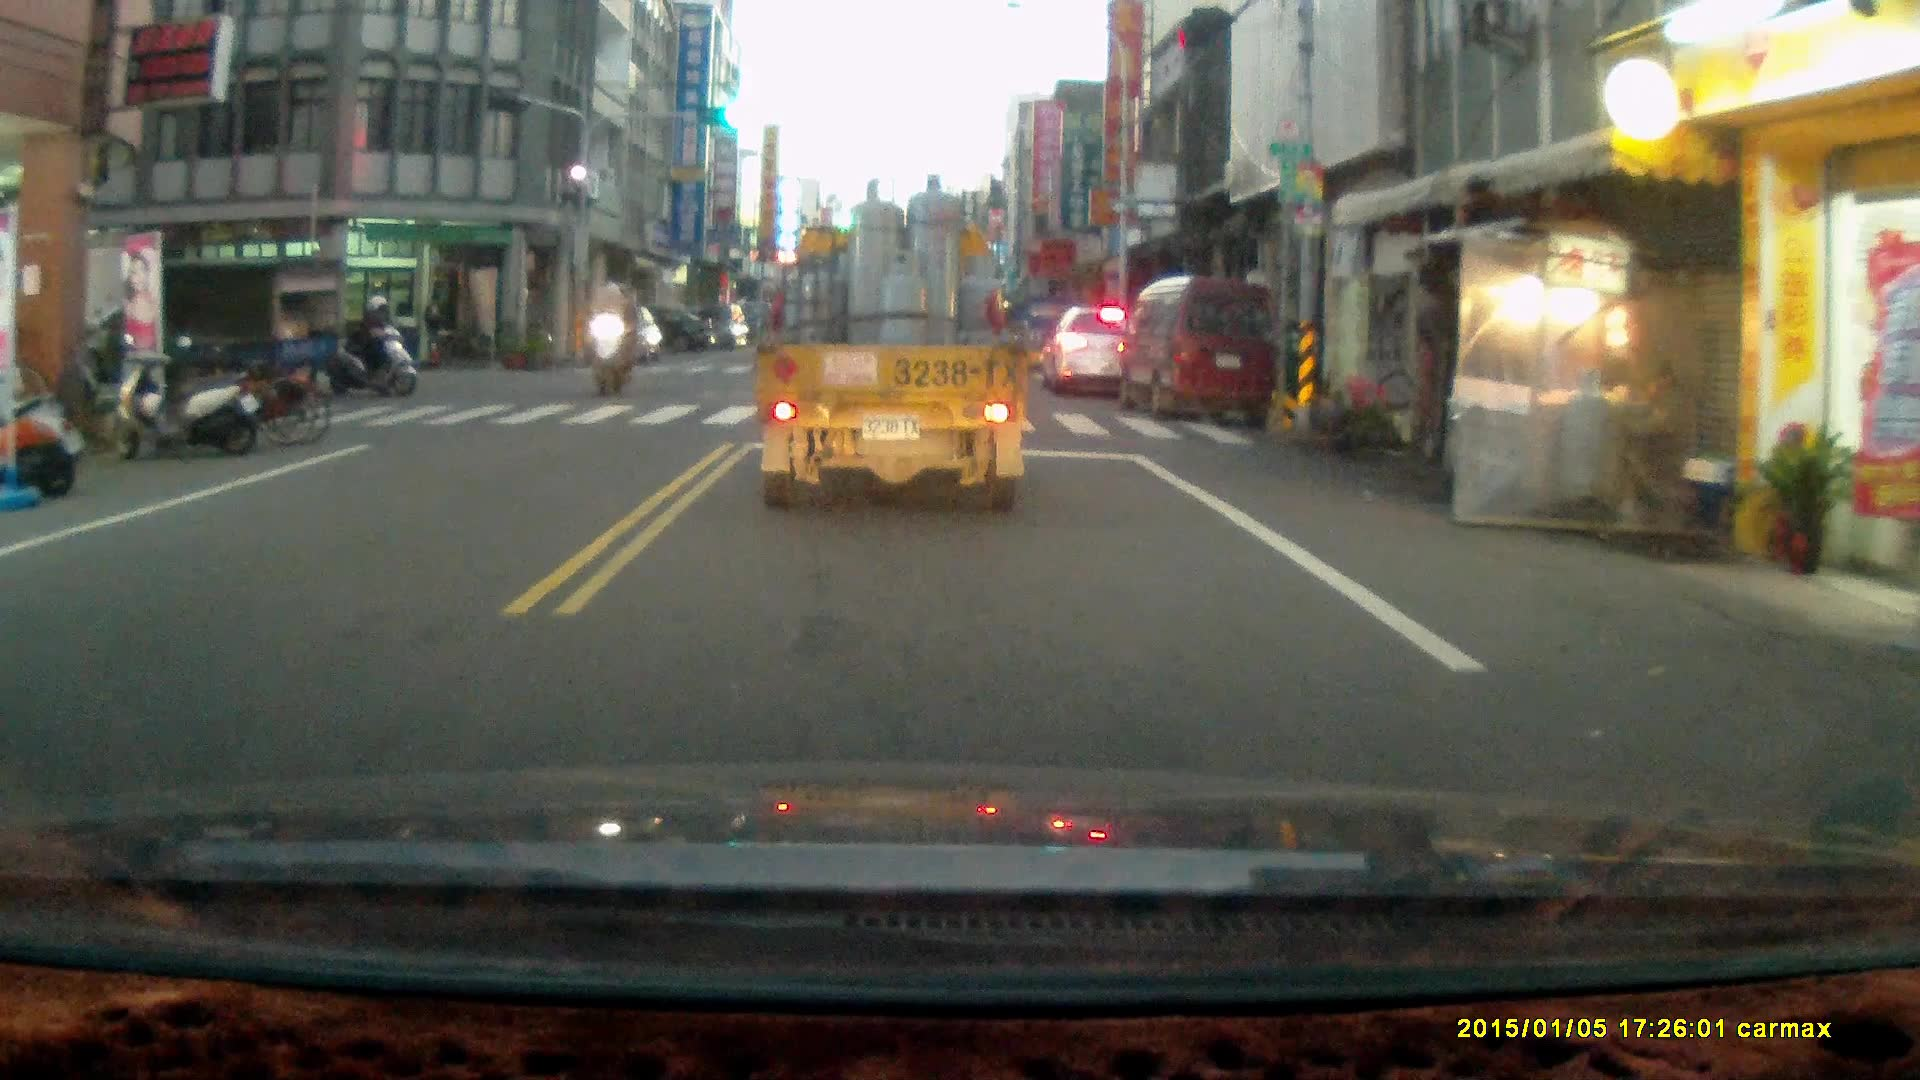pedestrian: (419, 287, 448, 368)
rider: (330, 282, 417, 388), (579, 273, 633, 392)
vehicle: (753, 167, 1028, 511), (74, 247, 349, 406), (1119, 277, 1283, 424), (1044, 300, 1148, 397), (602, 300, 716, 356), (585, 302, 666, 367), (678, 303, 749, 349)
